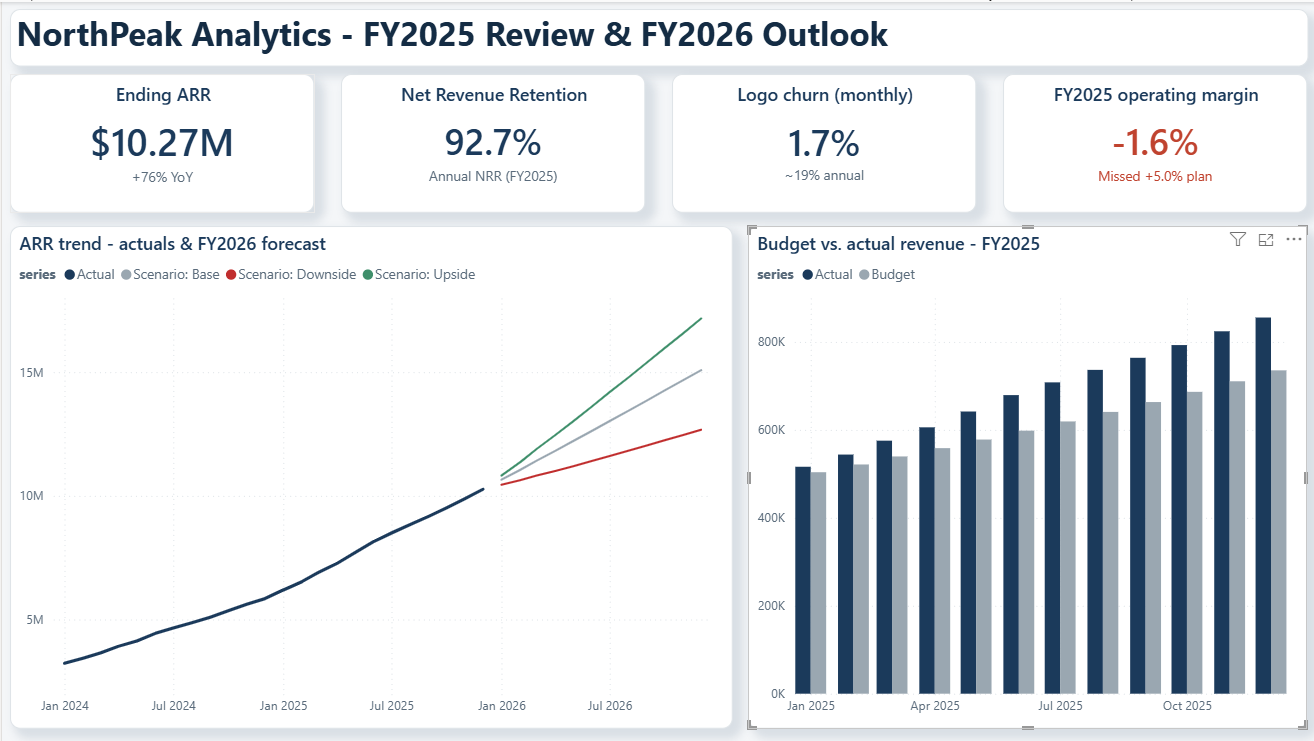

What the dashboard file says about the page in this screenshot:
{"tool":"powerbi","page":{"name":"Executive Summary","canvas":[1280,720],"ordinal":0},"visuals":[{"type":"textbox","box":[7.8,6.8,1264.4,56.4],"z":0},{"type":"cardVisual","title":"Logo churn (monthly)","fields":{"Data":["_Measures.Latest Logo Churn"]},"box":[636.4,70,308.3,135.2],"z":1000},{"type":"cardVisual","title":"Net Revenue Retention","fields":{"Data":["_Measures.Annual NRR (FY2025)"]},"box":[322.6,70,301.5,135.2],"z":2000},{"type":"cardVisual","title":"Ending ARR","fields":{"Data":["_Measures.Latest ARR"]},"box":[7.8,70,302.5,135.2],"z":3000},{"type":"cardVisual","title":"FY2025 operating margin","fields":{"Data":["_Measures.FY25 Operating Margin"]},"box":[957.1,69.1,315.1,135.2],"z":4000},{"type":"lineChart","title":"ARR trend - actuals & FY2026 forecast","fields":{"Category":["dashboard_data.date"],"Y":["_Measures.Value"],"Series":["dashboard_data.series"]},"box":[7.8,217.9,703.2,489.2],"z":5000},{"type":"clusteredColumnChart","title":"Budget vs. actual revenue - FY2025","fields":{"Category":["dashboard_data.date"],"Y":["Sum(dashboard_data.value)"],"Series":["dashboard_data.series"]},"box":[725.6,217.9,546.6,489.2],"z":6000}]}

Visuals, with their boxes in screenshot pixels (x1, y1, x2, y2), scaled from the page's 1280x720 canvas onto the 1314x741 screenshot:
textbox: bbox(8, 7, 1306, 65)
"Logo churn (monthly)" cardVisual: bbox(653, 72, 970, 211)
"Net Revenue Retention" cardVisual: bbox(331, 72, 641, 211)
"Ending ARR" cardVisual: bbox(8, 72, 319, 211)
"FY2025 operating margin" cardVisual: bbox(983, 71, 1306, 210)
"ARR trend - actuals & FY2026 forecast" lineChart: bbox(8, 224, 730, 728)
"Budget vs. actual revenue - FY2025" clusteredColumnChart: bbox(745, 224, 1306, 728)
